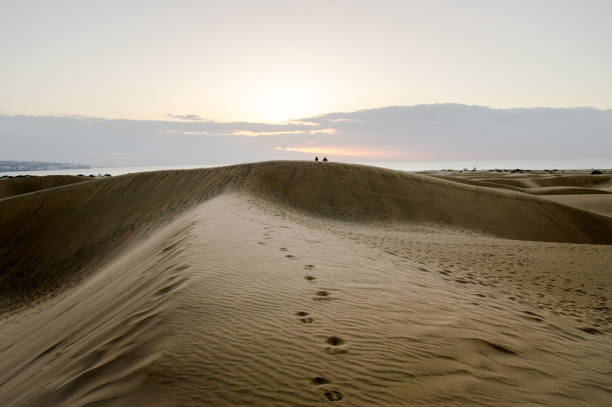human_footprint: (311, 376, 343, 401), (326, 336, 347, 353), (284, 250, 298, 269), (300, 274, 322, 286), (295, 311, 313, 323), (304, 260, 318, 274), (313, 290, 331, 300)
